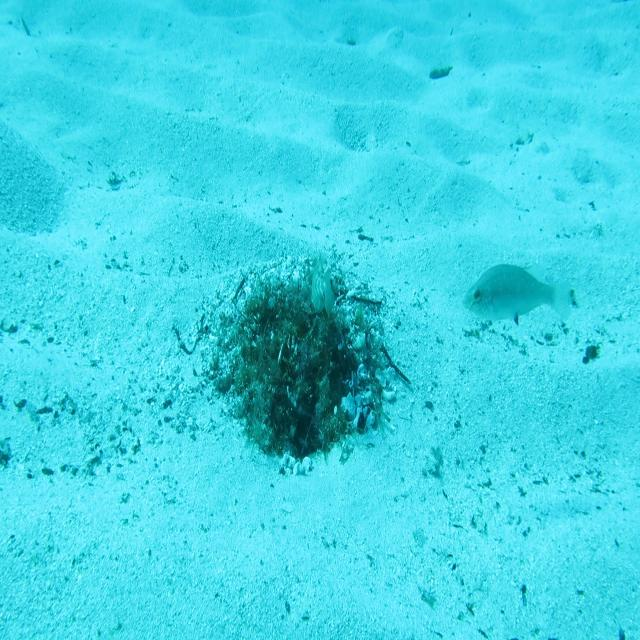NIP_CORE: (310, 255, 336, 318)
core_nest: (271, 303, 324, 331)
female: (460, 262, 574, 330)
nest: (196, 237, 403, 480)
vegetation: (431, 64, 454, 81)
